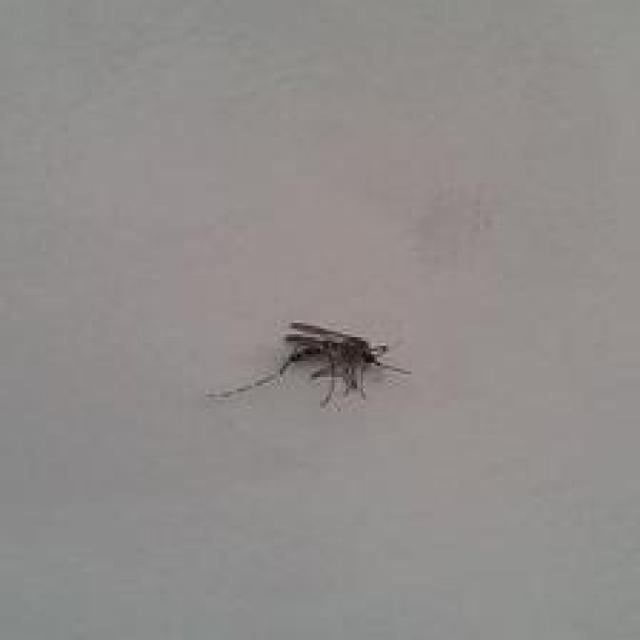Aedes albopictus: (206, 319, 411, 410)
